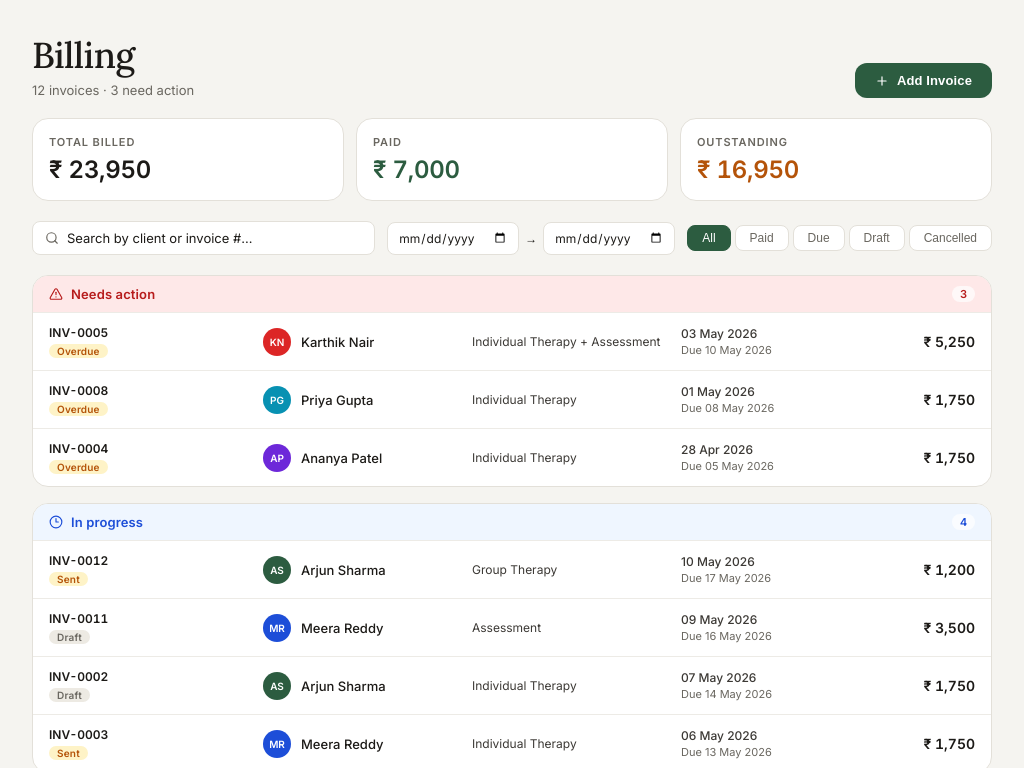
Test: <Billing> page › Paid status filter narrows list
Step 1. Click the button "Paid" → (762, 238), box [735,225,789,251]
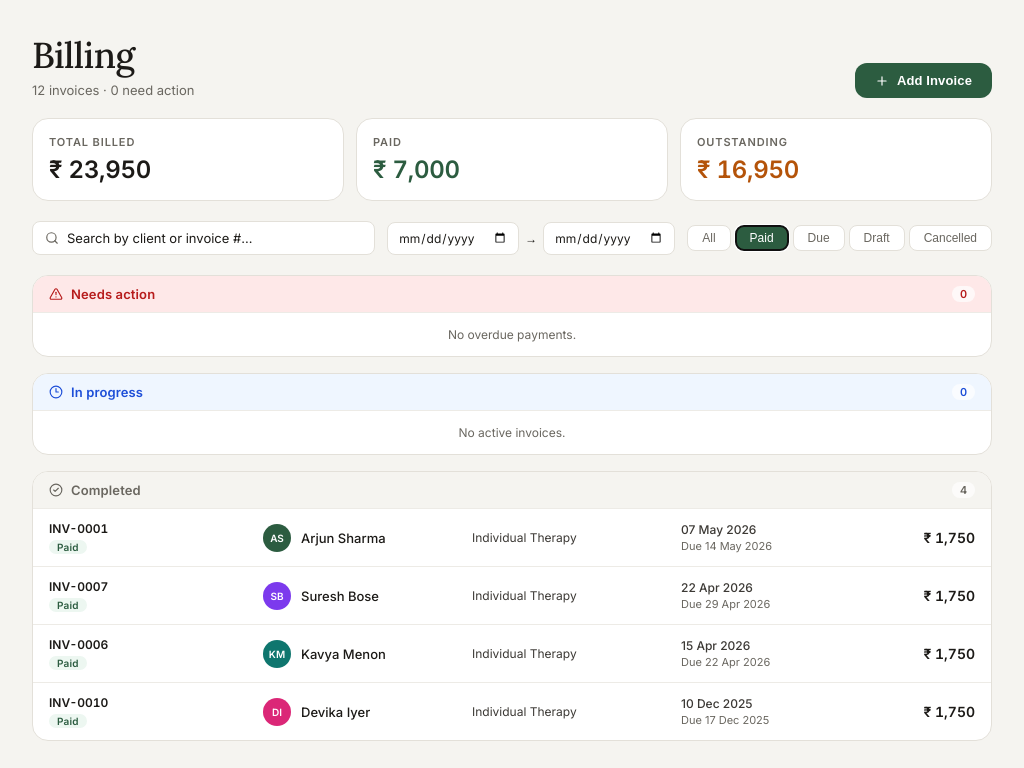
Expected: the text "INV-0001" is shown, [49,521,108,536]
Expected: the button "INV-0002" is gone
